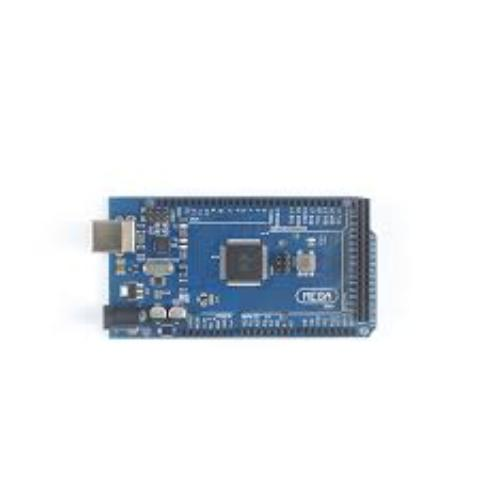Arduino-Mega: (85, 181, 396, 352)
